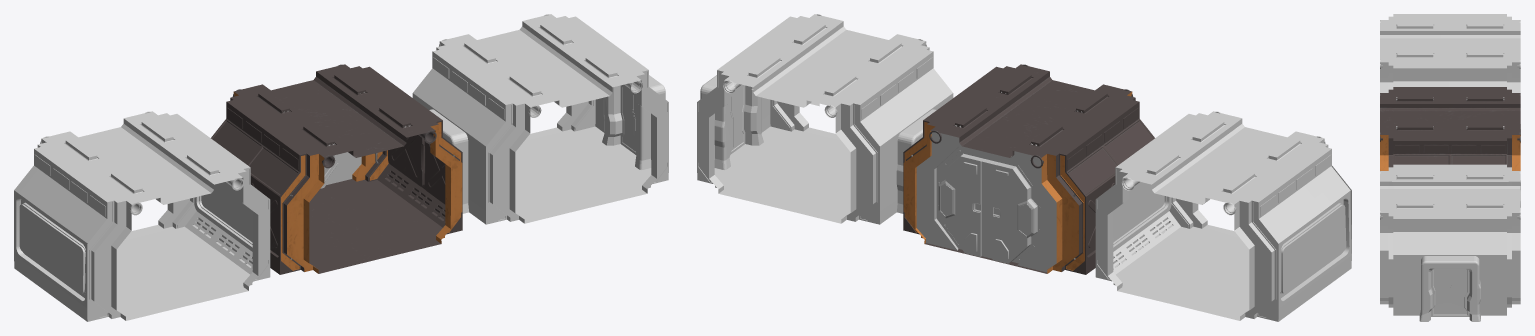
3 views of the same model, side by side, from view 1: azimuth 30°, elevation 25°; view 2: azimuth 150°, elevation 25°; view 3: azimuth 270°, elevation 25° (orthographic). The views are drawn at different scales.
Parts seen in each view (by area): view 1: sector 2, sector 3, sector 1, door; view 2: sector 2, sector 3, sector 1, door; view 3: sector 3, sector 1, sector 2.
Boxes of the visible parts, left/top/right/bottom form: sector 2: left=14, top=111, right=270, bottom=321; sector 3: left=412, top=14, right=668, bottom=224; sector 1: left=211, top=64, right=462, bottom=274; door: left=320, top=152, right=361, bottom=188; sector 2: left=1095, top=111, right=1351, bottom=321; sector 3: left=697, top=14, right=953, bottom=224; sector 1: left=903, top=64, right=1154, bottom=274; door: left=916, top=132, right=1056, bottom=272; sector 3: left=1380, top=164, right=1520, bottom=321; sector 1: left=1380, top=87, right=1520, bottom=170; sector 2: left=1380, top=14, right=1520, bottom=92.
Bounding box in the file's own units: 1851 × 348 × 487.
